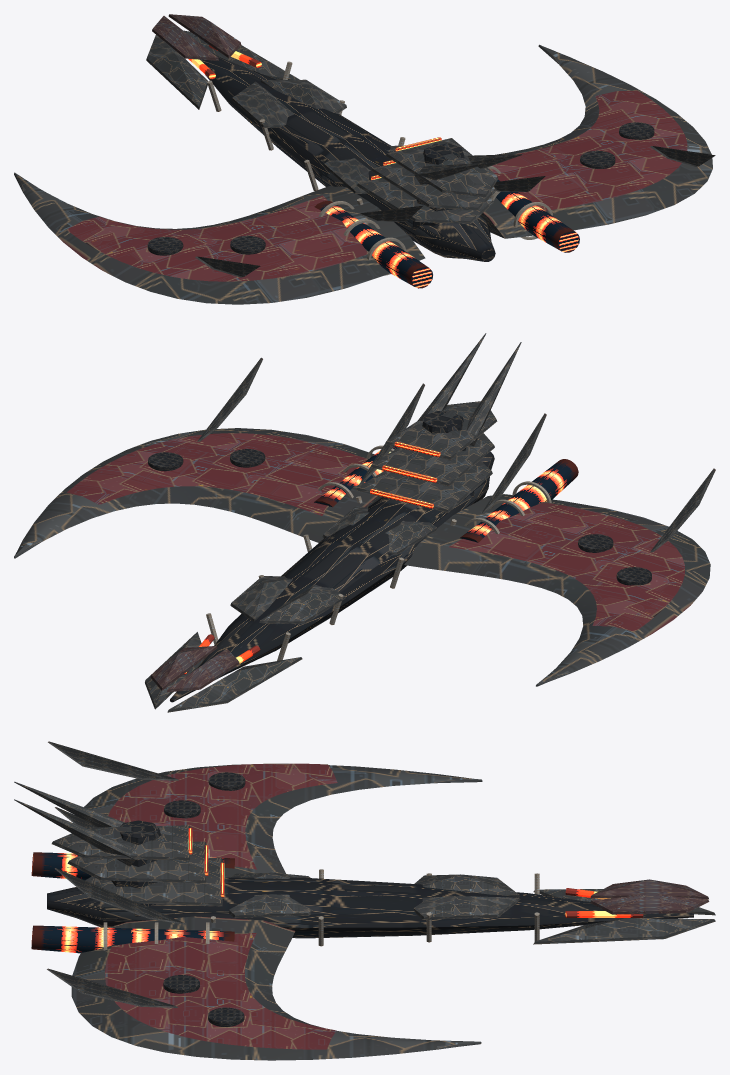
The model's file is dynasty_destroyer.glb.
3 renders of one model, top to bottom at view 1: azimuth 30°, elevation 25°; view 2: azimuth 150°, elevation 25°; view 3: azimuth 270°, elevation 25°, orthographic. The views are drawn at different scales.
Visible parts, largest first — view 1: dynasty_destroyer_lod_source; view 2: dynasty_destroyer_lod_source; view 3: dynasty_destroyer_lod_source.
Boxes of the visible parts, x1,y1,x2,y2 form: dynasty_destroyer_lod_source: (14,14,715,304); dynasty_destroyer_lod_source: (14,333,715,712); dynasty_destroyer_lod_source: (14,741,715,1060).
Bounding box in the file's own units: 1.9 × 0.4212 × 1.9.
Materials: 1 (1 with a texture image).
